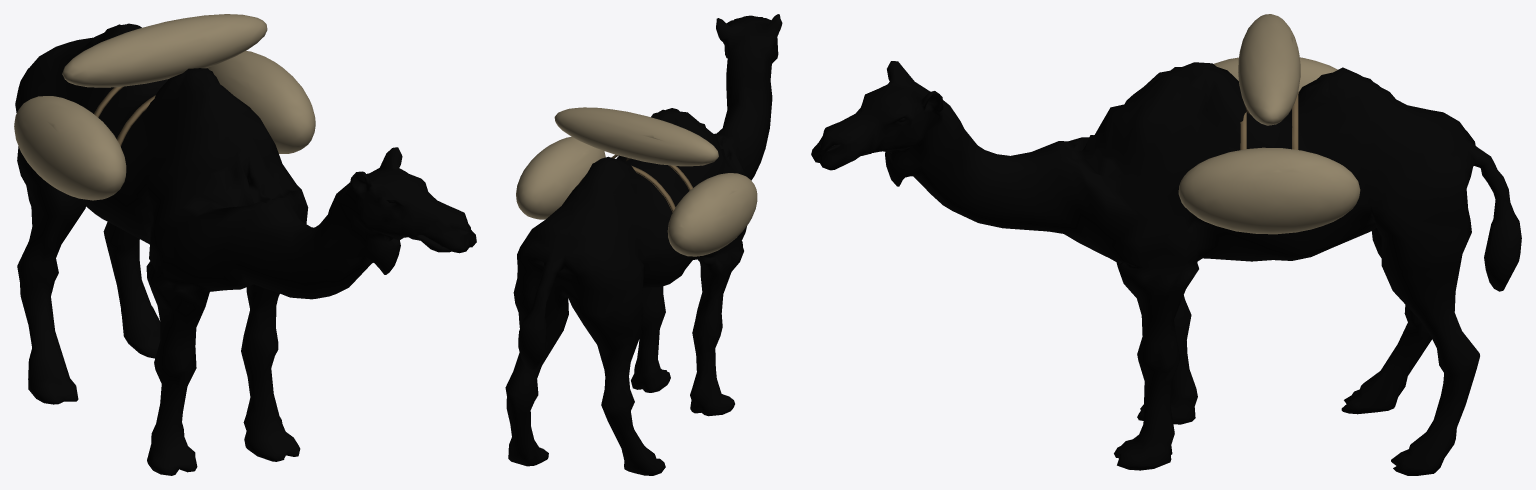
File: camel_pack.glb
3 renders of one model, left to right at view 1: azimuth 30°, elevation 25°; view 2: azimuth 150°, elevation 25°; view 3: azimuth 270°, elevation 25°, orthographic. The views are drawn at different scales.
Parts seen in each view (by area): view 1: lod0; view 2: lod0; view 3: lod0.
Part boxes in pixels (x1,y1,x2,y2): lod0: (14,14,476,475); lod0: (505,14,782,475); lod0: (811,14,1521,475).
Size of what is drawn, in the model's own units: 1.62 by 2.37 by 3.86.
